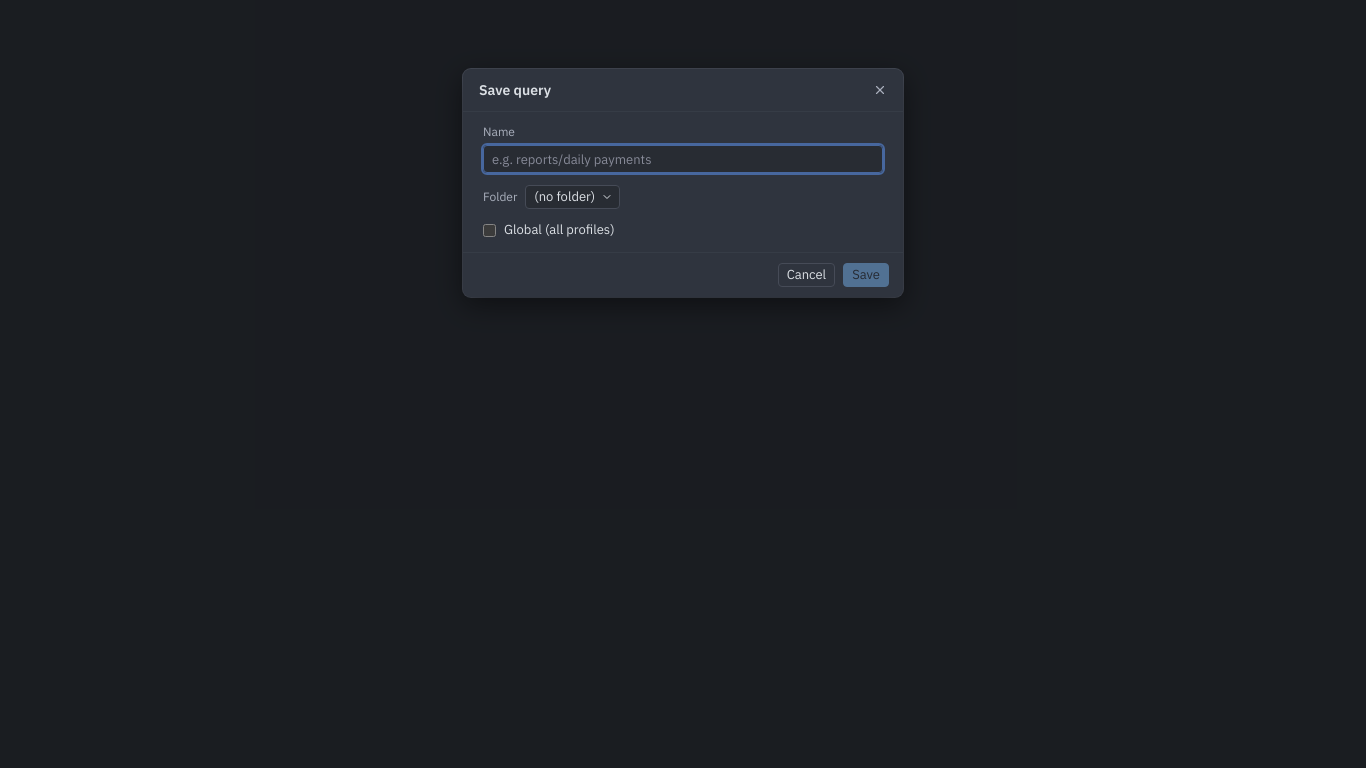
Test case: SaveQueryDialog › disables Save for an empty name and validates inline
Expected: the button "Save" is disabled, [843,263,889,287]
In the field labelled "Name": (683, 159) [483,145,883,173], type "a//b"
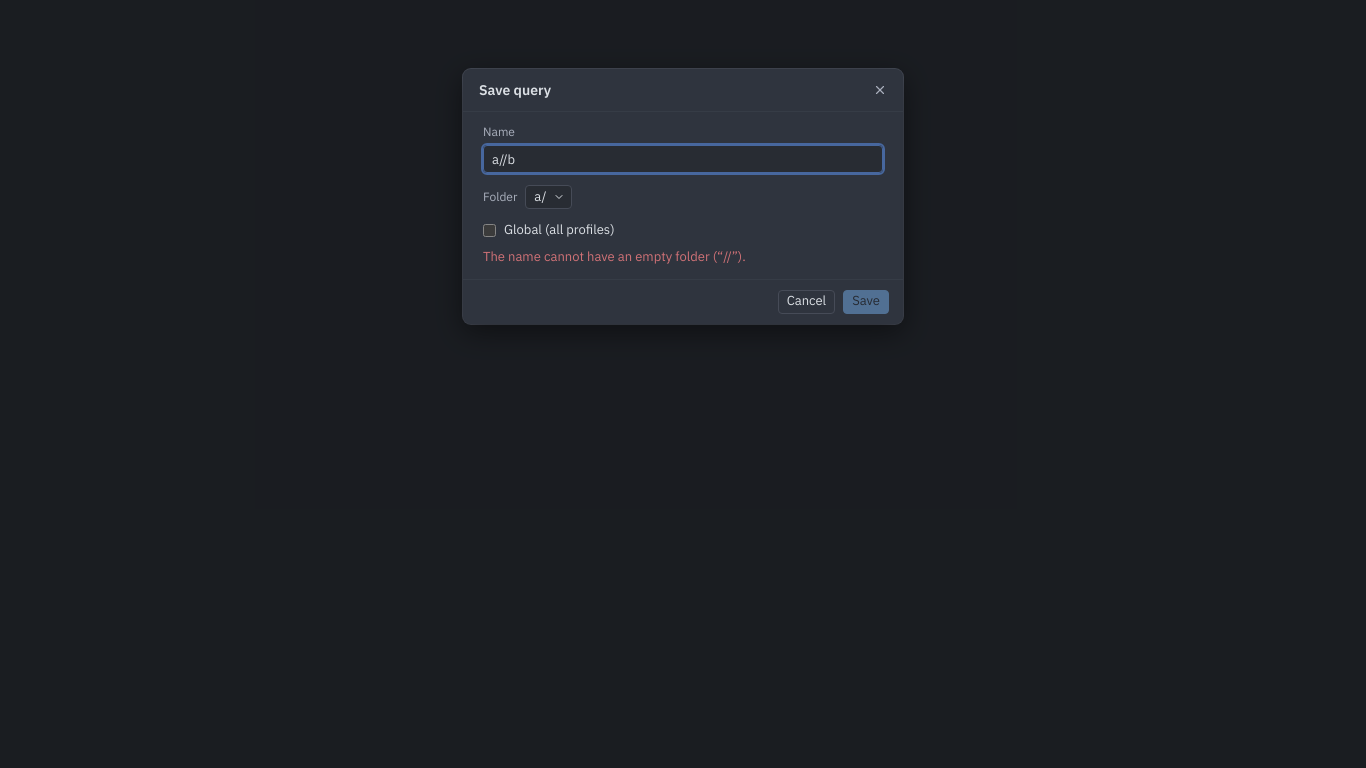
Expected: the button "Save" is disabled, [843,290,889,314]
Expected: the message shows "empty folder", [483,248,746,265]
Replace the text in the field labelled "Name" with "a\\b": (683, 159) [483,145,883,173]
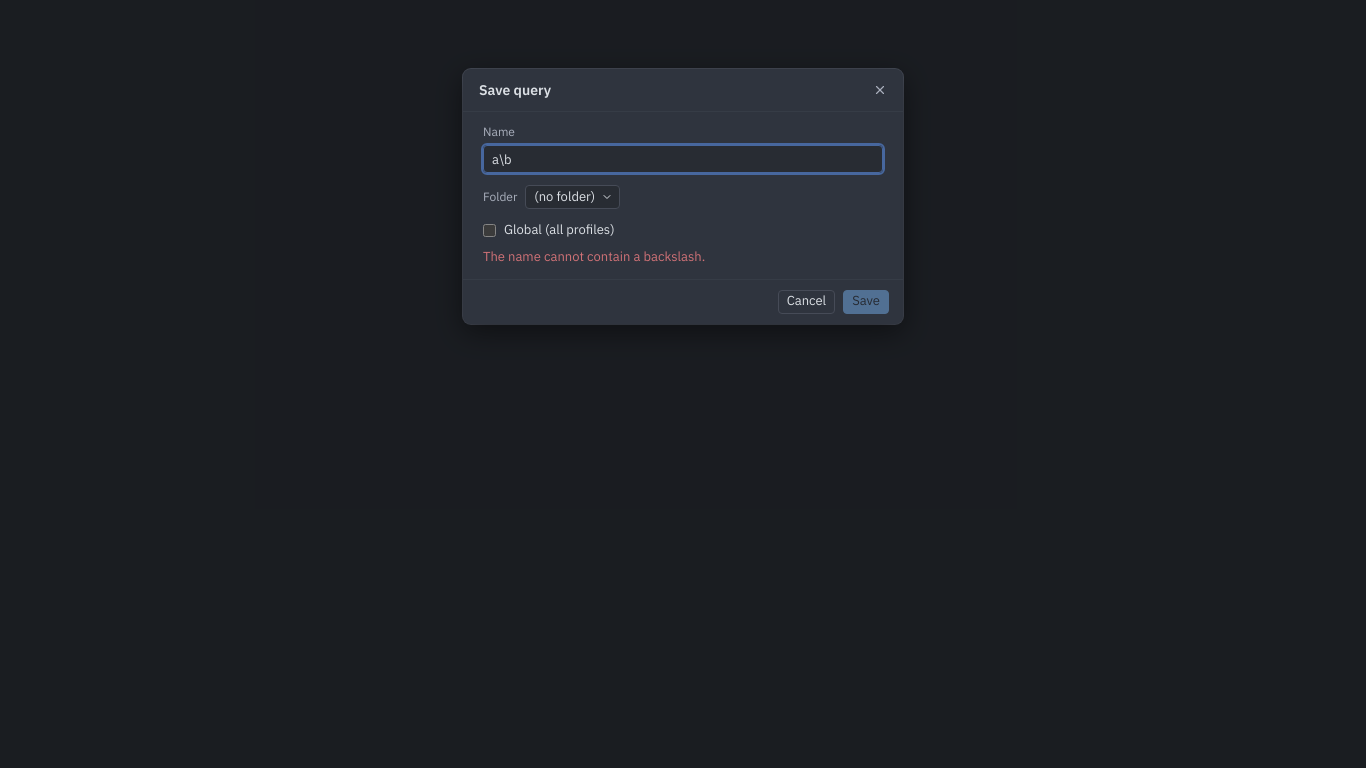
Expected: the message shows "backslash", [483,248,705,265]
